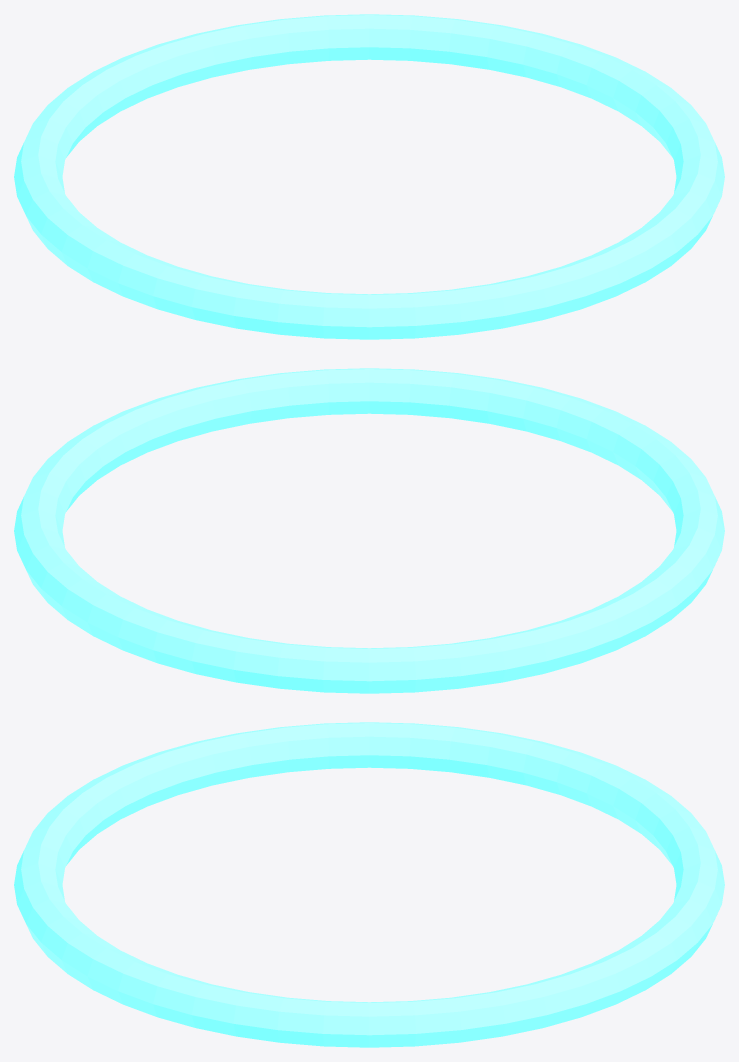
Rendered from placement-ring.glb.
3 views of the same model, one above another, from view 1: azimuth 30°, elevation 25°; view 2: azimuth 150°, elevation 25°; view 3: azimuth 270°, elevation 25° (orthographic).
Parts seen in each view (by area): view 1: Placement ring mesh; view 2: Placement ring mesh; view 3: Placement ring mesh.
Boxes of the visible parts, bbox=[...] form: Placement ring mesh: bbox=[14, 14, 724, 339]; Placement ring mesh: bbox=[14, 368, 724, 693]; Placement ring mesh: bbox=[14, 722, 724, 1047].
Bounding box in the file's own units: 0.088 × 0.006 × 0.088.
